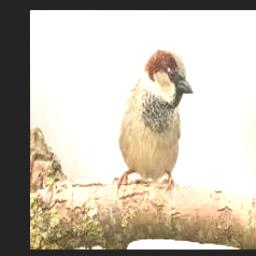Sparrow: (114, 49, 194, 195)
